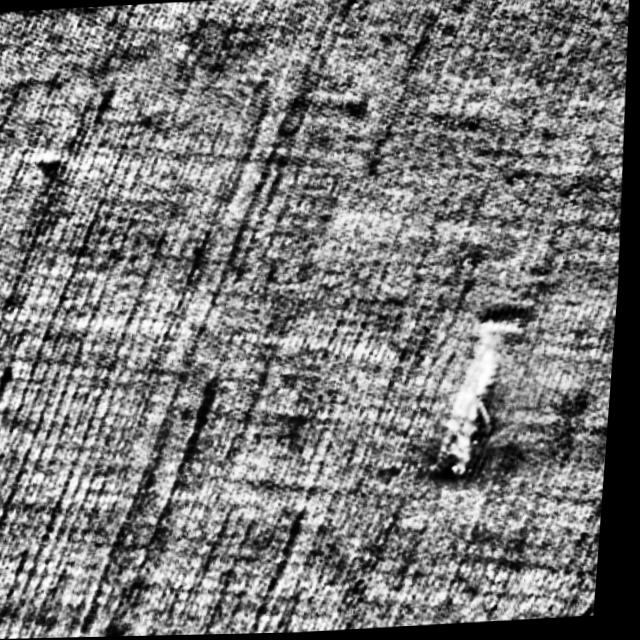Hole: (398, 304, 562, 497)
